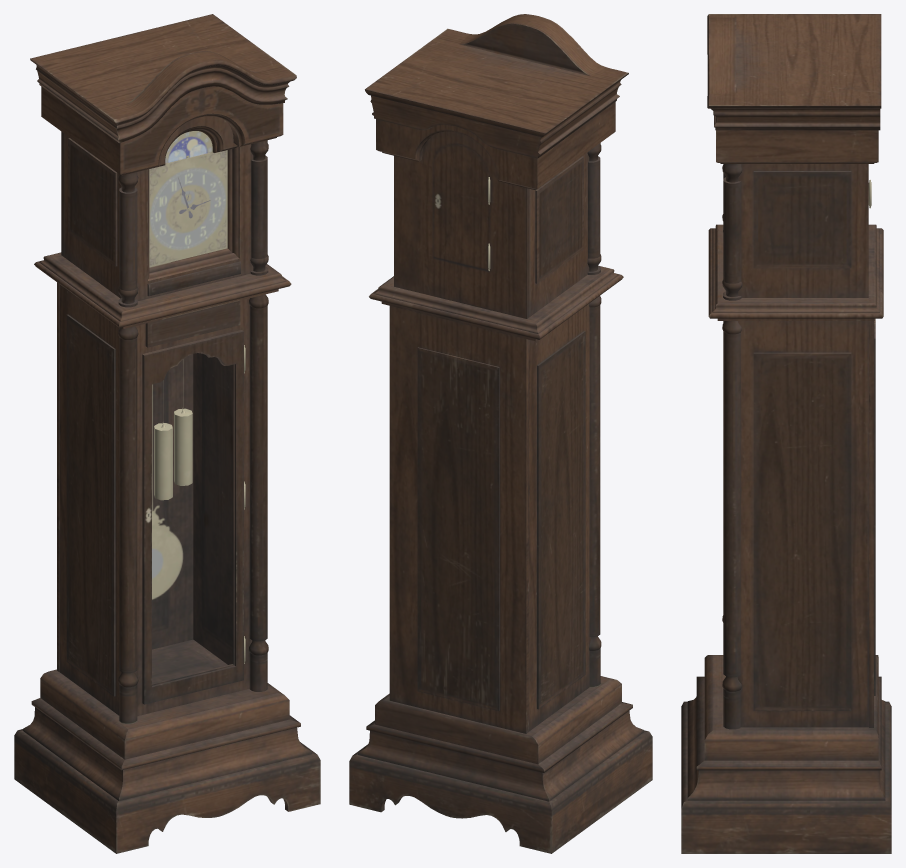
The model's file is new_clock.glb.
3 renders of one model, left to right at view 1: azimuth 30°, elevation 25°; view 2: azimuth 150°, elevation 25°; view 3: azimuth 270°, elevation 25°, orthographic. The views are drawn at different scales.
Parts seen in each view (by area): view 1: SM_Clock_Grandfather_02b_LOD0; view 2: SM_Clock_Grandfather_02b_LOD0; view 3: SM_Clock_Grandfather_02b_LOD0.
Boxes of the visible parts, left/top/right/bottom form: SM_Clock_Grandfather_02b_LOD0: left=14, top=14, right=320, bottom=853; SM_Clock_Grandfather_02b_LOD0: left=349, top=14, right=652, bottom=853; SM_Clock_Grandfather_02b_LOD0: left=681, top=14, right=891, bottom=853.
Bounding box in the file's own units: 0.578 × 2.04 × 0.5.
Materials: 2 (1 with a texture image).
